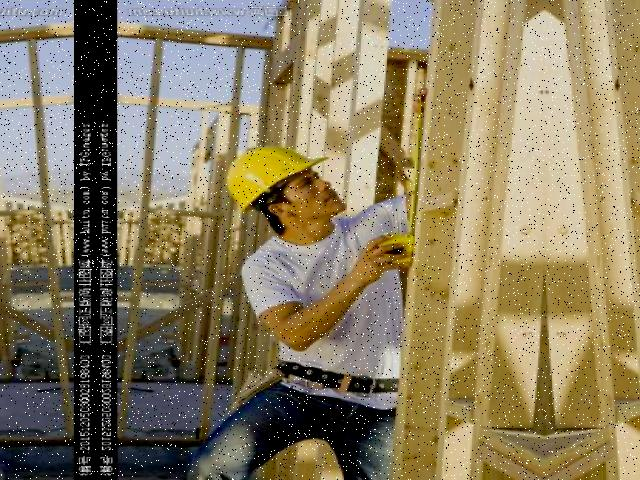Helmet: (222, 141, 338, 216)
